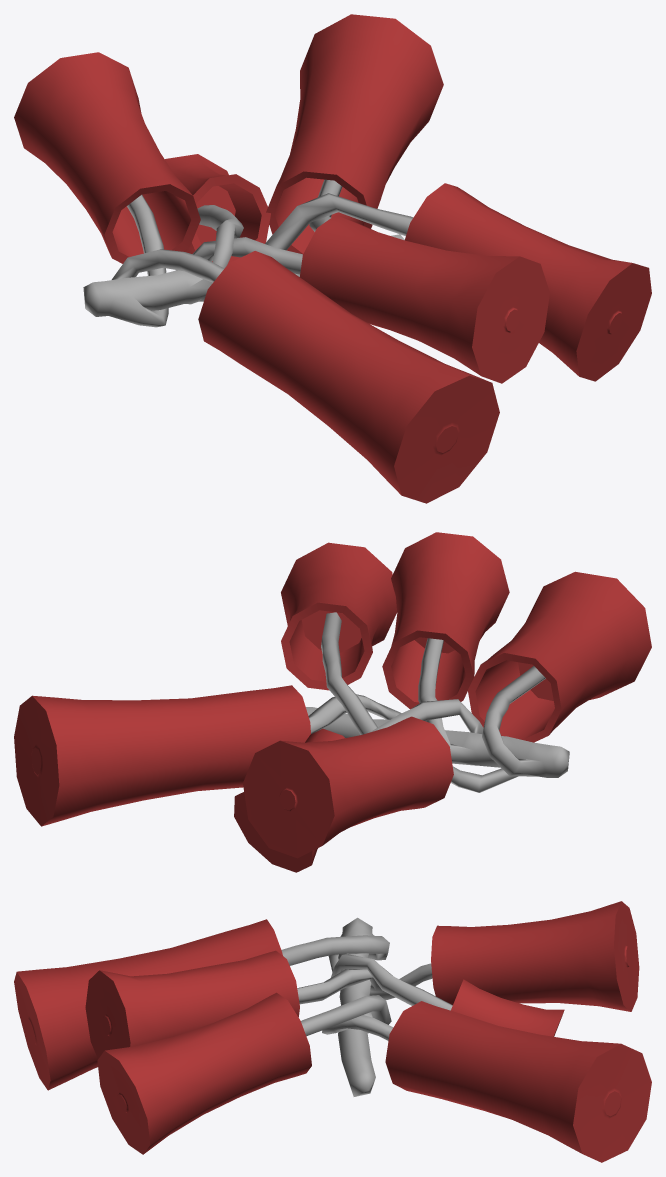
File: firecrackerString.fbx
3 views of the same model, one above another, from view 1: azimuth 30°, elevation 25°; view 2: azimuth 150°, elevation 25°; view 3: azimuth 270°, elevation 25° (orthographic). The views are drawn at different scales.
Parts seen in each view (by area): view 1: pasted__pasted__pCylinder4, pasted__pasted__pCylinder1, pasted__pasted__pasted__pCylinder3, pasted__pCylinder1, pasted__pasted__pasted__pCylinder1, pasted__group4_pasted__pasted__pCylinder3, pasted__pasted__pCylinder3; view 2: pasted__pasted__pasted__pCylinder3, pasted__pCylinder1, pasted__pasted__pCylinder4, pasted__pasted__pCylinder1, pasted__group4_pasted__pasted__pCylinder3, pasted__pasted__pasted__pCylinder1, pasted__pasted__pCylinder3; view 3: pasted__pasted__pasted__pCylinder3, pasted__pasted__pasted__pCylinder1, pasted__pCylinder1, pasted__pasted__pCylinder1, pasted__pasted__pCylinder4, pasted__group4_pasted__pasted__pCylinder3, pasted__pasted__pCylinder3.
Boxes of the visible parts, x1,y1,x2,y2 form: pasted__pasted__pCylinder4: (198,251,499,503); pasted__pasted__pCylinder1: (300,215,549,383); pasted__pasted__pasted__pCylinder3: (266,14,443,254); pasted__pCylinder1: (14,52,200,263); pasted__pasted__pasted__pCylinder1: (405,183,651,381); pasted__group4_pasted__pasted__pCylinder3: (83,179,413,327); pasted__pasted__pCylinder3: (165,154,270,264); pasted__pasted__pasted__pCylinder3: (14,685,310,826); pasted__pCylinder1: (243,716,453,858); pasted__pasted__pCylinder4: (467,571,651,742); pasted__pasted__pCylinder1: (382,532,509,709); pasted__group4_pasted__pasted__pCylinder3: (305,612,569,792); pasted__pasted__pasted__pCylinder1: (281,542,396,690); pasted__pasted__pCylinder3: (234,728,345,872); pasted__pasted__pasted__pCylinder3: (385,1001,651,1162); pasted__pasted__pasted__pCylinder1: (97,992,311,1154); pasted__pCylinder1: (431,901,639,1011); pasted__pasted__pCylinder1: (85,950,299,1058); pasted__pasted__pCylinder4: (14,919,282,1090); pasted__group4_pasted__pasted__pCylinder3: (281,917,452,1096); pasted__pasted__pCylinder3: (451,979,564,1036).
Size of the model in its own units: 7.46 by 2.91 by 10.03.
